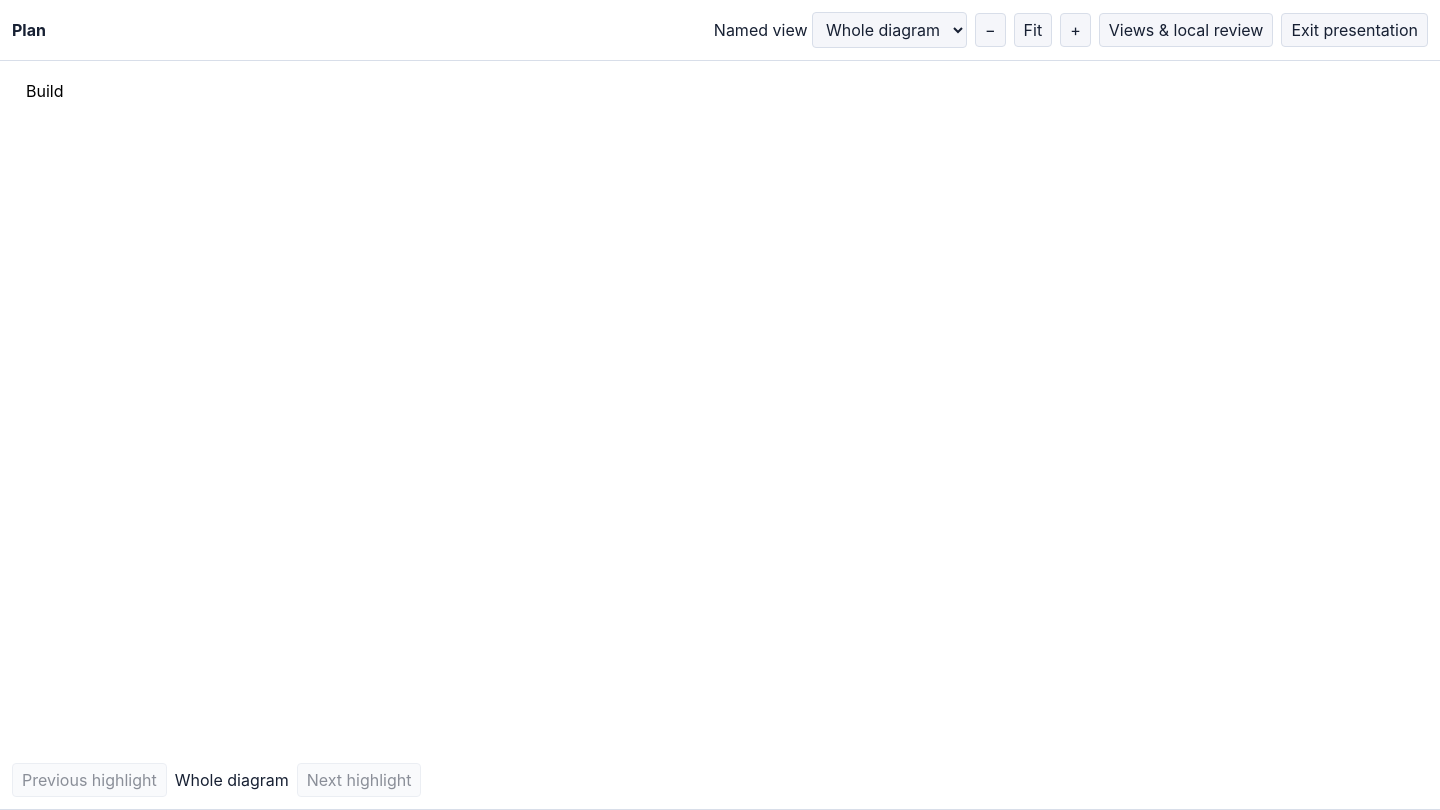
it: preserves unreadable storage and blocks writes
Click the button "Views & local review": (1186, 30) left=1099, top=13, right=1274, bottom=47
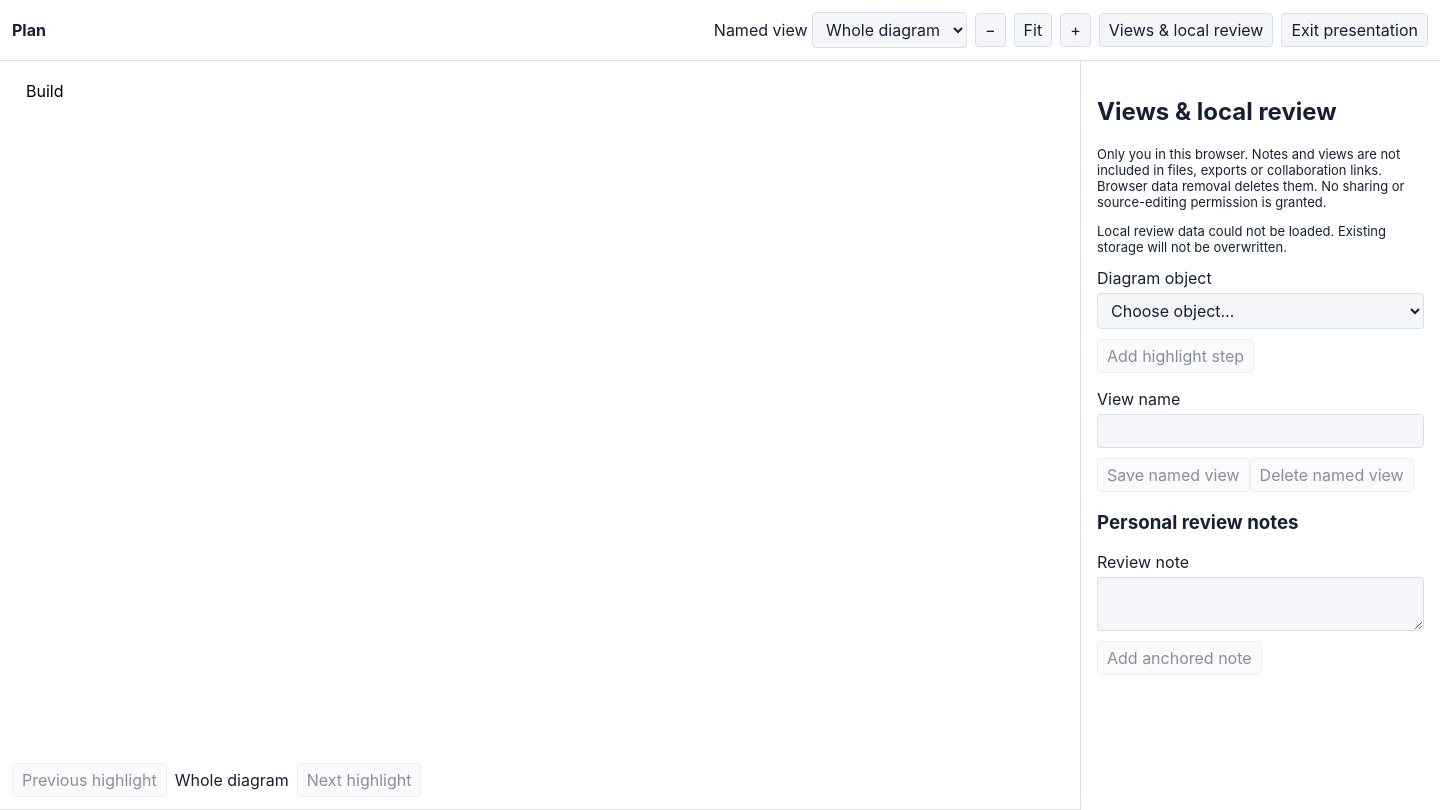
Now the 1st message shows "will not be overwritten", box left=1097, top=223, right=1386, bottom=255
Now the button "Save named view" is disabled, box left=1097, top=458, right=1250, bottom=492
